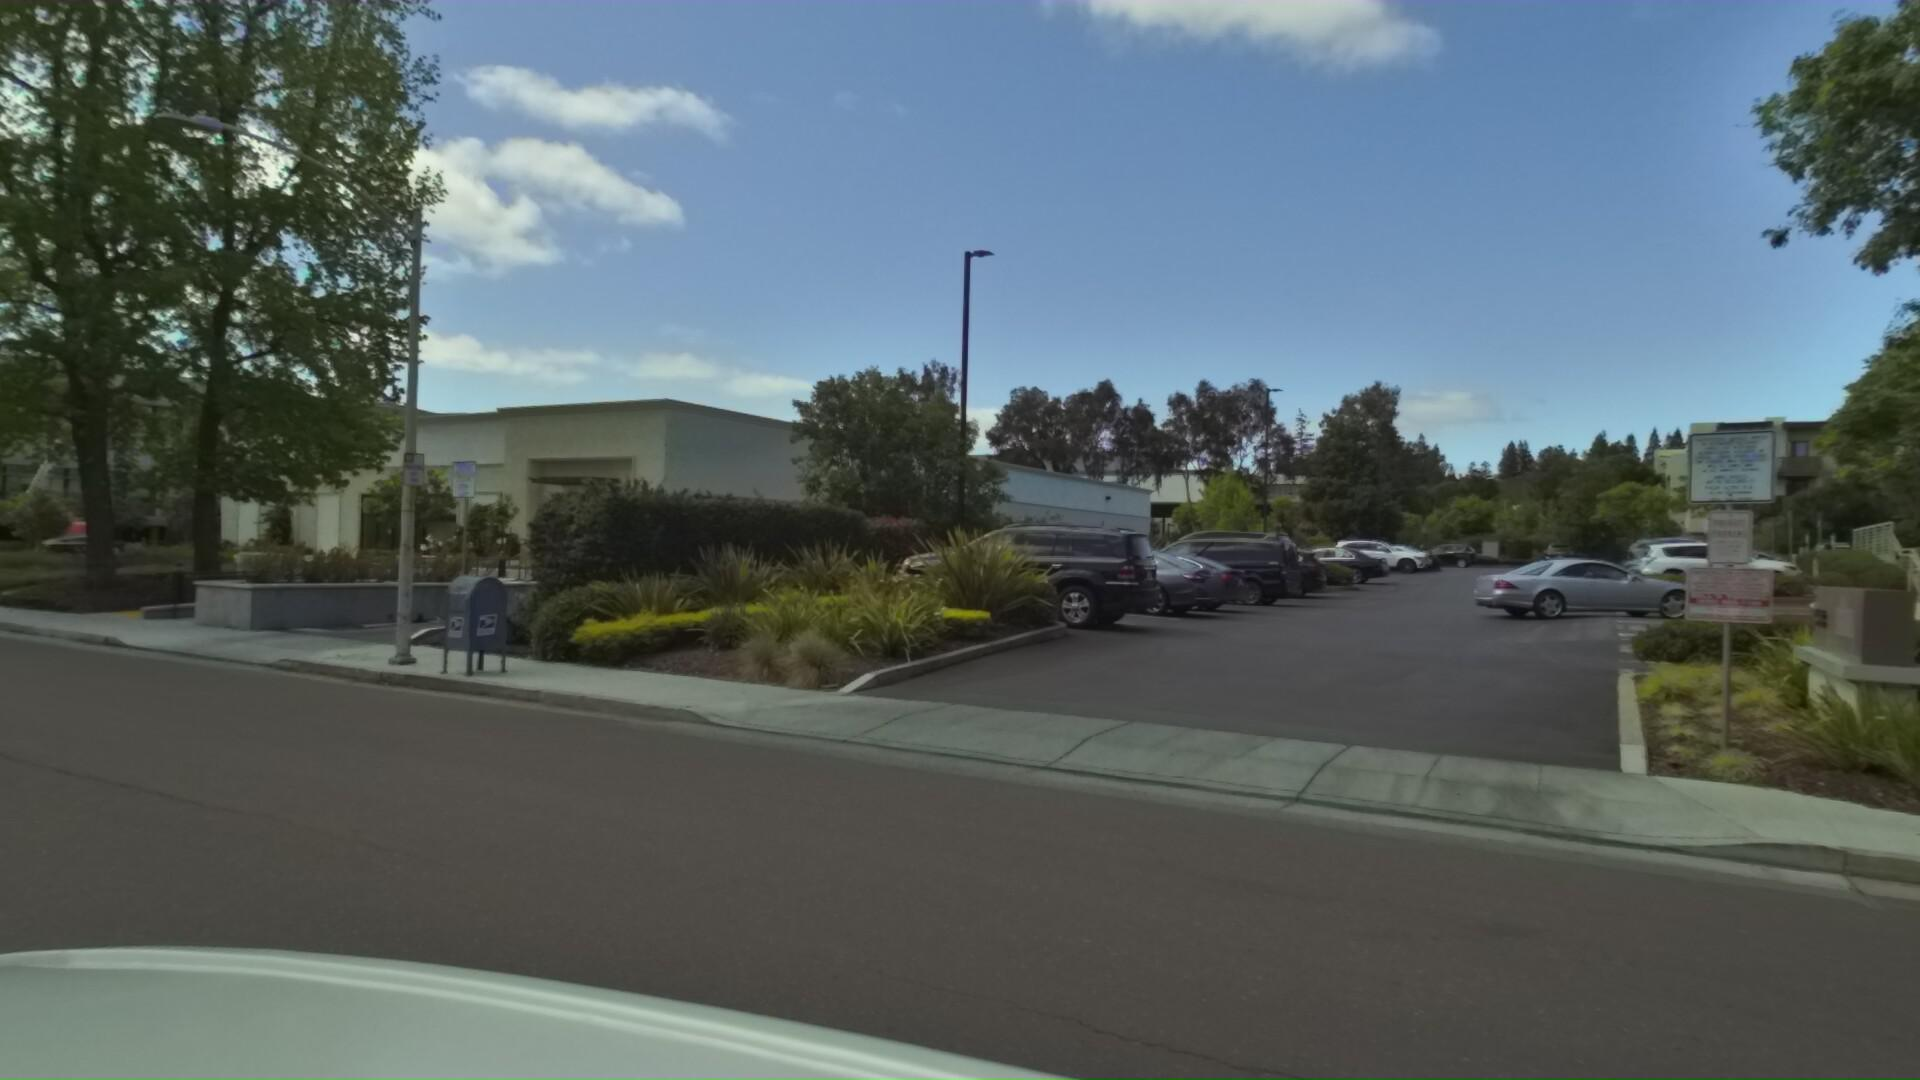other_vehicle: (7, 390, 160, 558)
